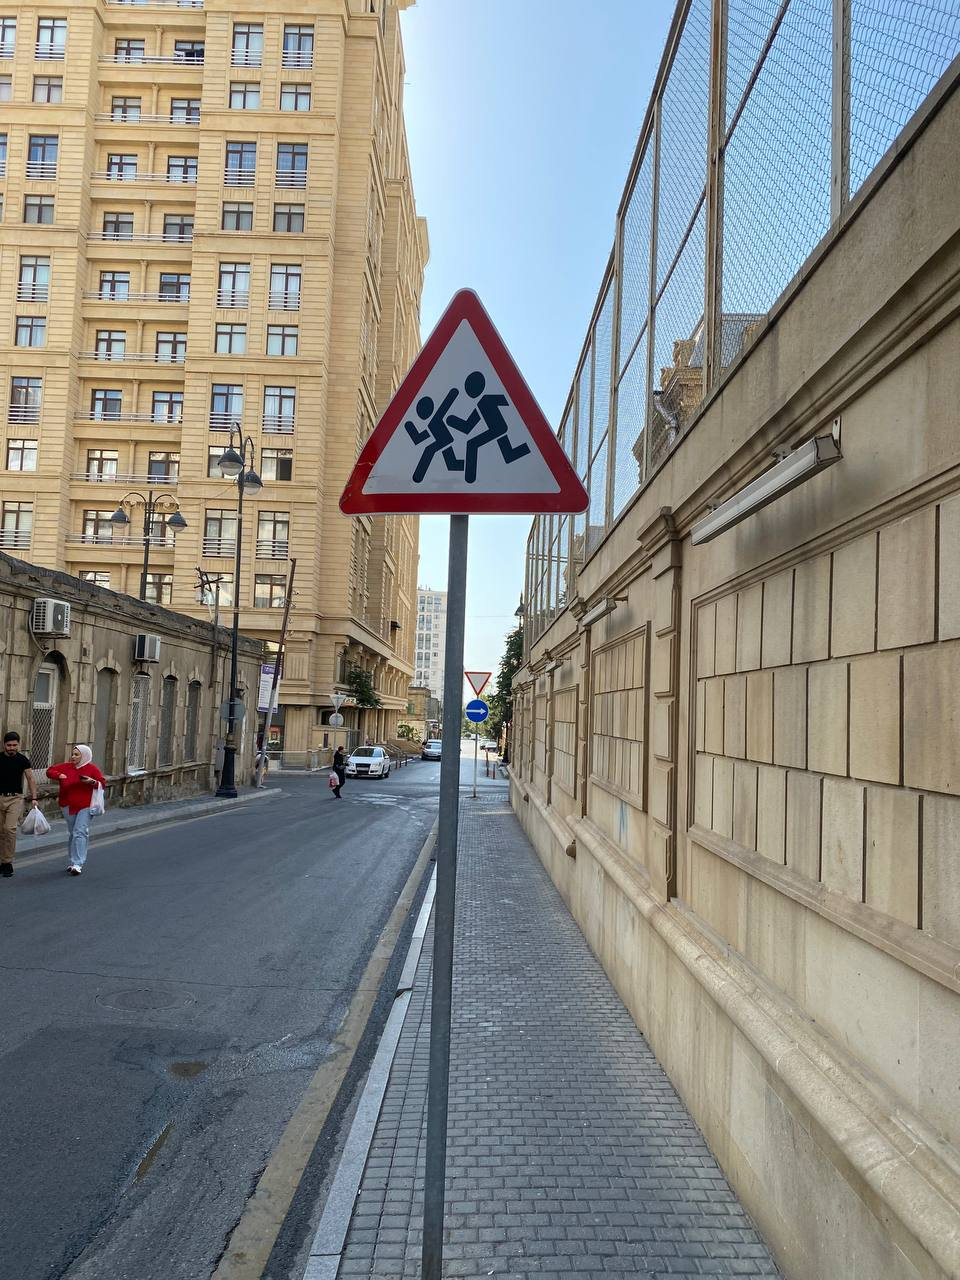Give Way: (464, 671, 492, 696)
Turn Right: (465, 700, 489, 723)
